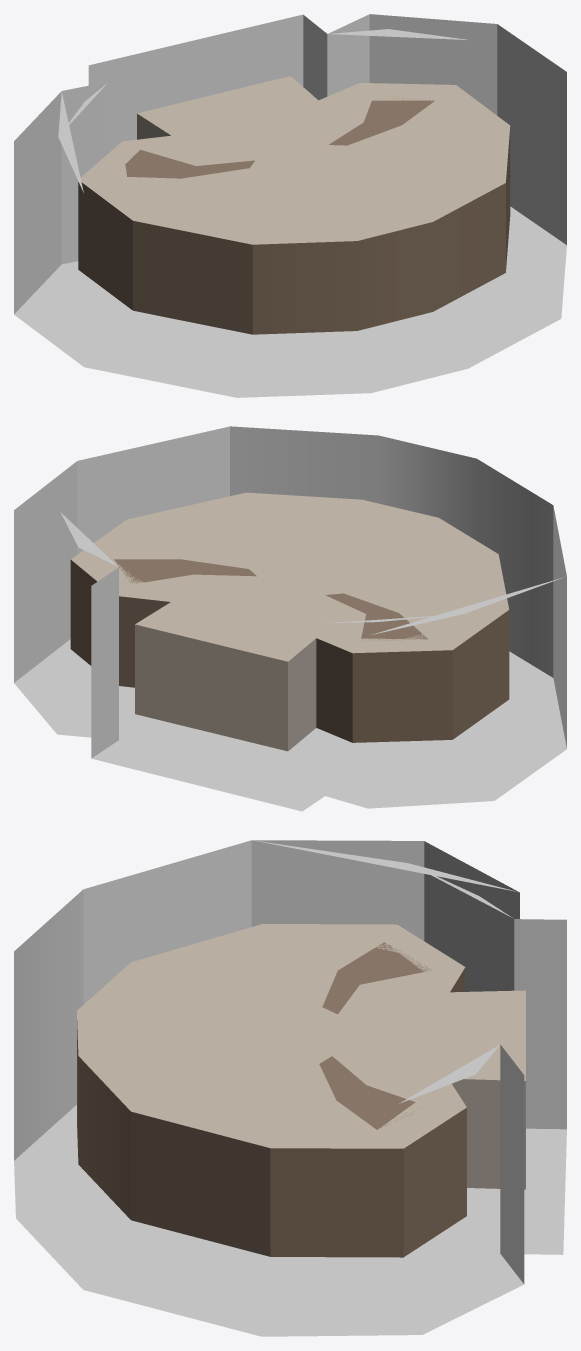
Rendered from Mushroom.glb.
3 renders of one model, top to bottom at view 1: azimuth 30°, elevation 25°; view 2: azimuth 150°, elevation 25°; view 3: azimuth 270°, elevation 25°, orthographic. The views are drawn at different scales.
Visible parts, largest first — view 1: Mushroom; view 2: Mushroom; view 3: Mushroom.
Boxes of the visible parts, bbox=[...] form: Mushroom: bbox=[14, 14, 566, 397]; Mushroom: bbox=[14, 426, 566, 811]; Mushroom: bbox=[14, 840, 566, 1336].
Size of the model in its own units: 0.1857 by 0.0632 by 0.1512.
